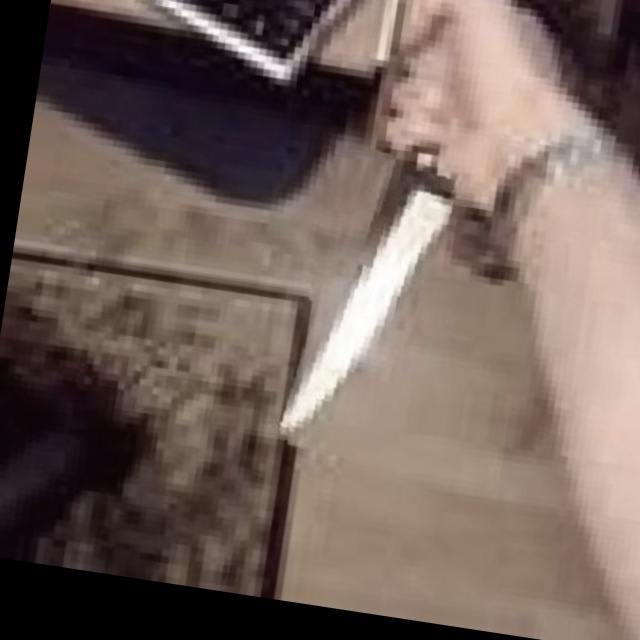Sharp-Object: (286, 145, 452, 467)
